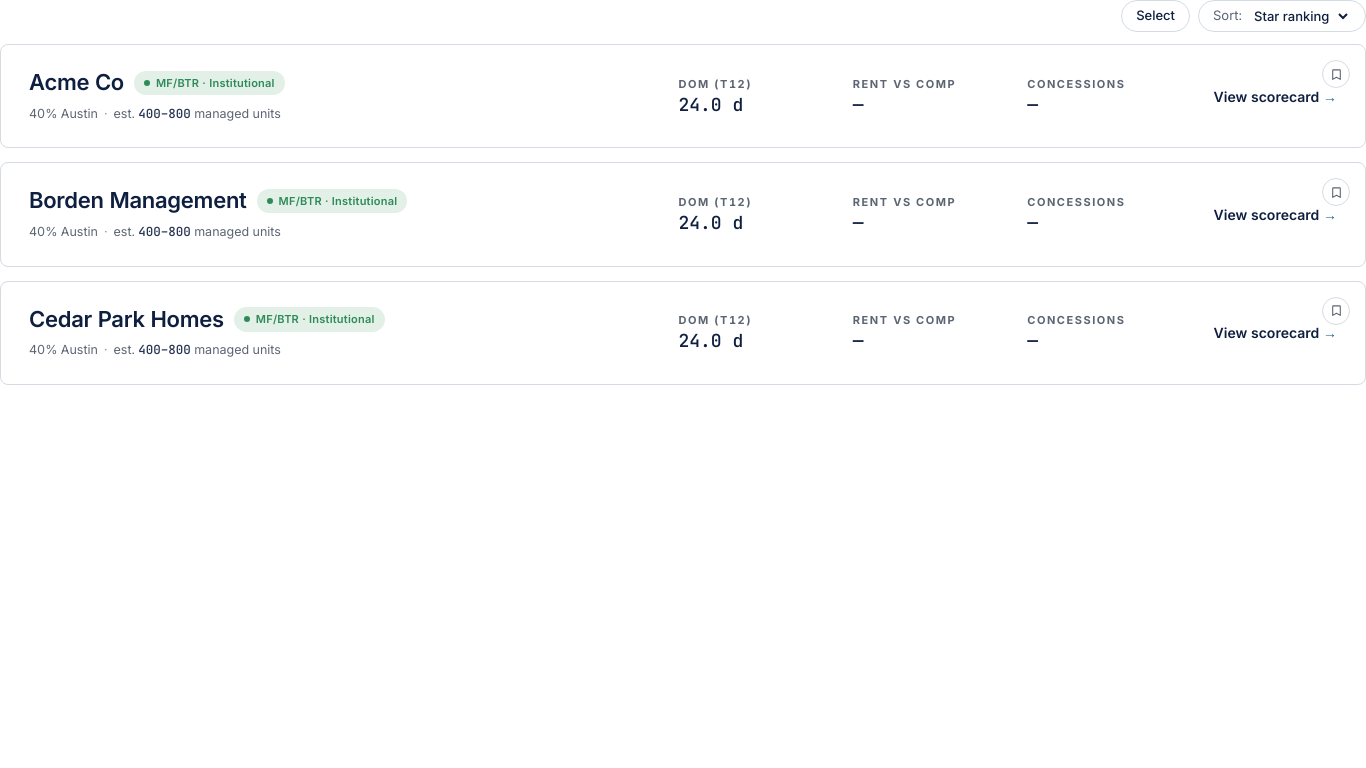
Scenario: RankedOperatorList — multi-select roster builder › a partial pin failure surfaces as an alert (not the success box) and keeps the selection for retry
The width and height of the screenshot is (1366, 768).
Step 1. Click the button "Select" → (1156, 16), box 1121,0 -> 1190,32
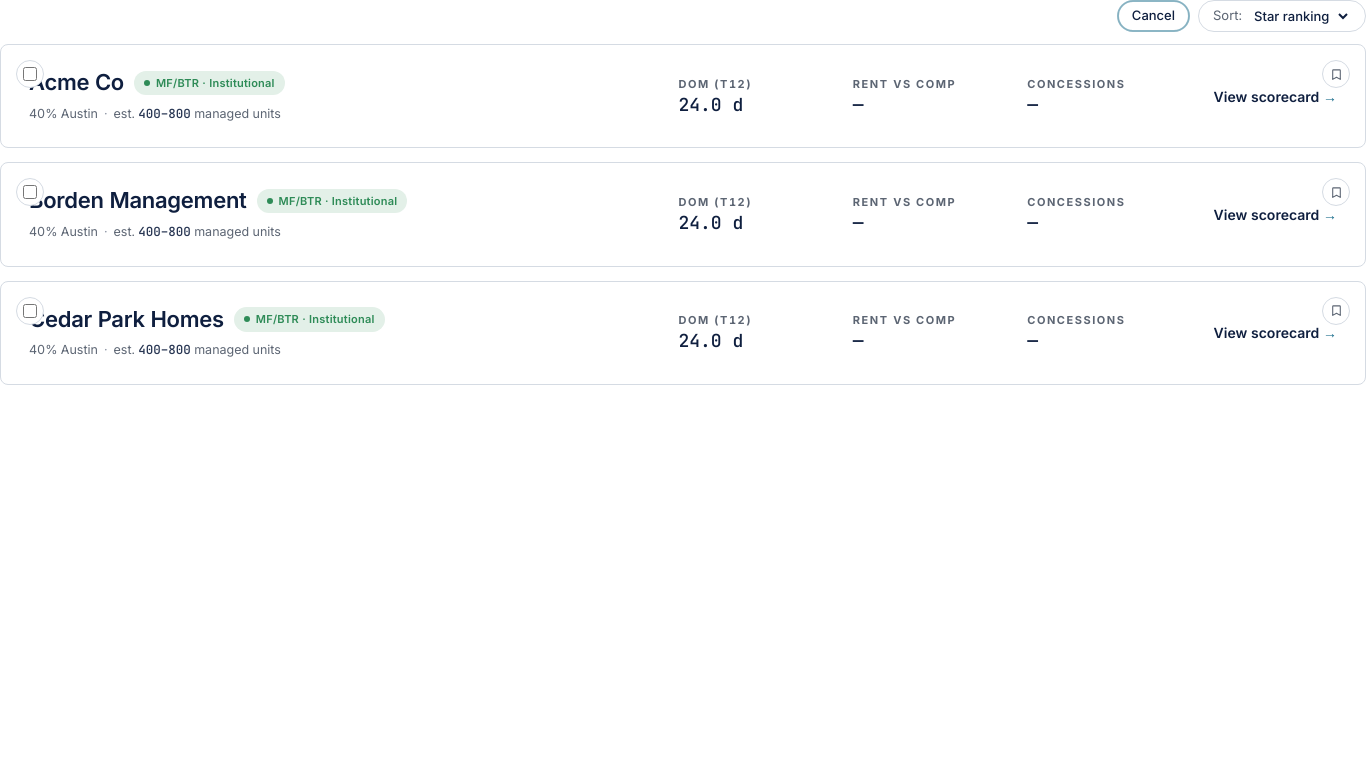
Step 2. Click the checkbox named "Acme Co" → (30, 74), box 23,67 -> 37,81
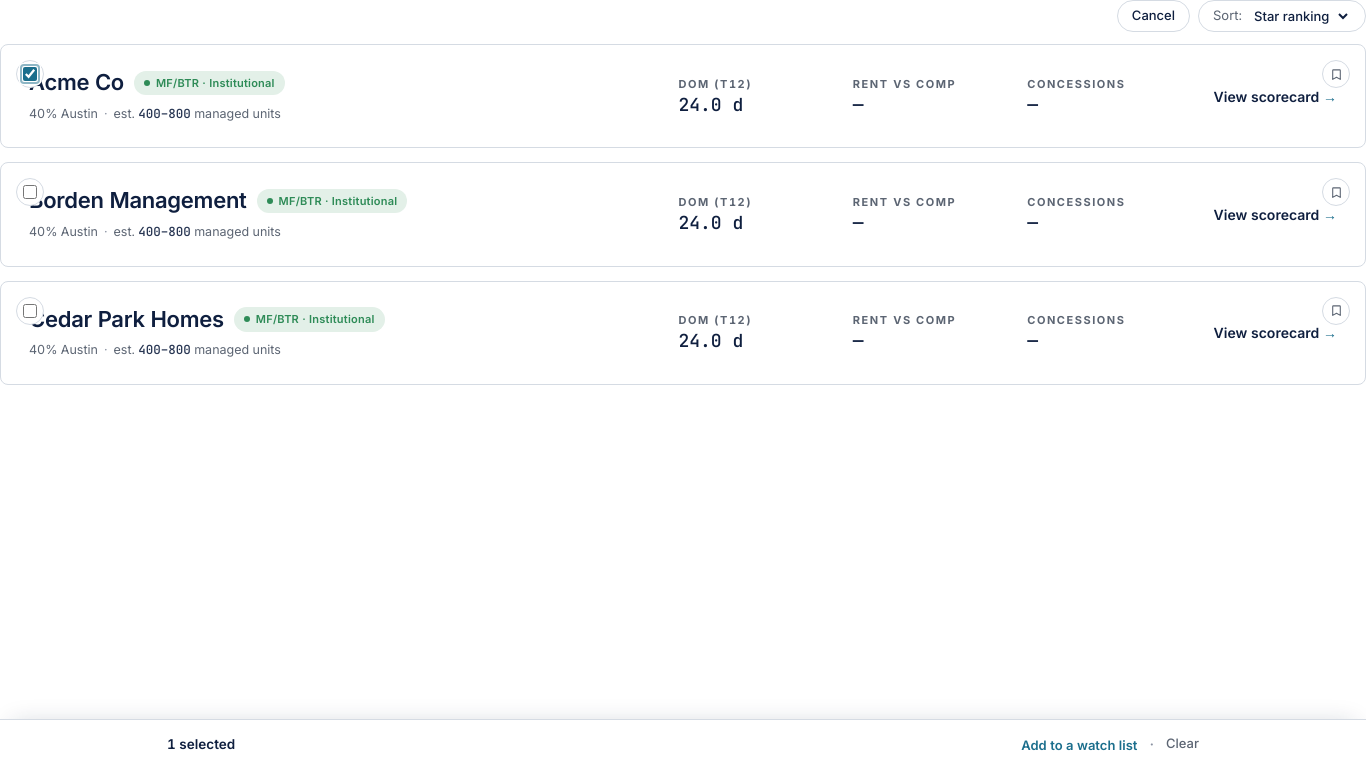
Step 3. Click the checkbox named "Borden Management" → (30, 192), box 23,185 -> 37,199
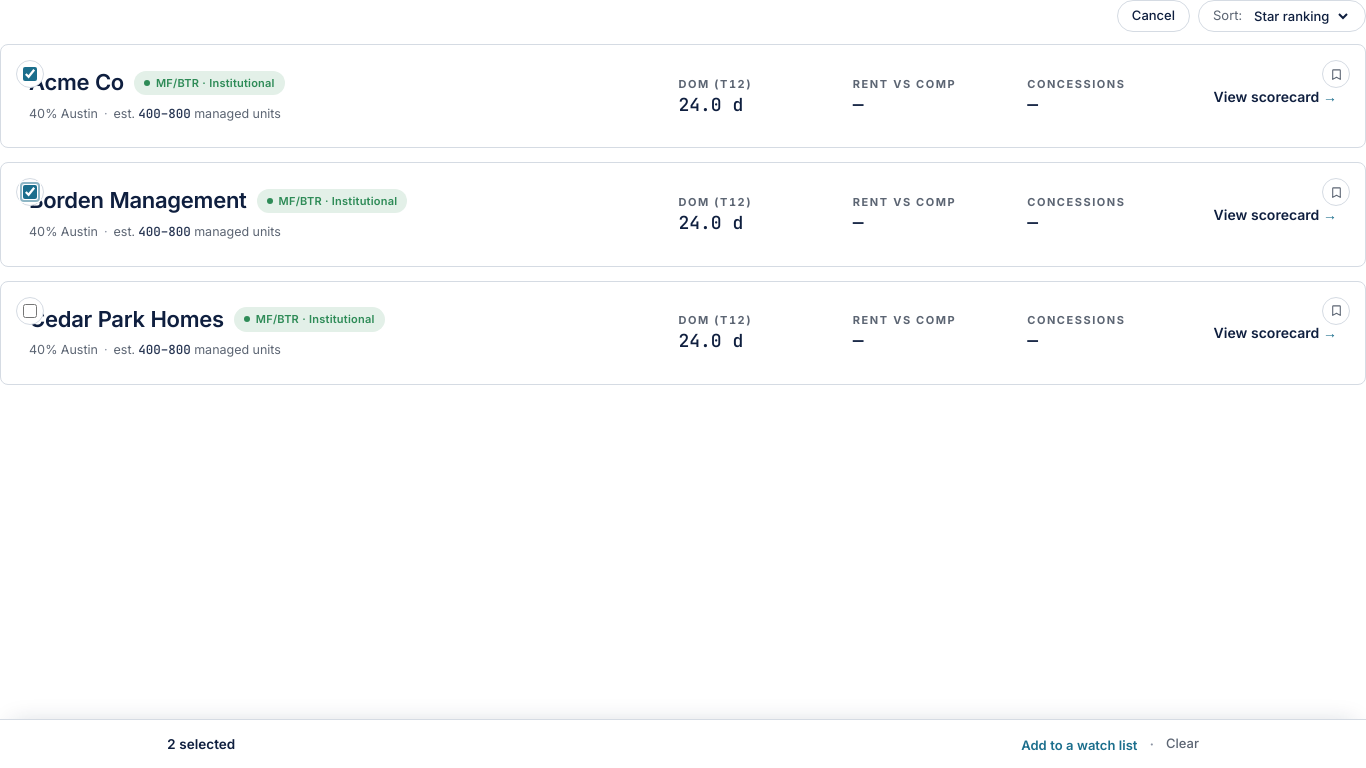
Step 4. Click the button "Add to a watch list" → (1079, 746), box 1021,736 -> 1137,756
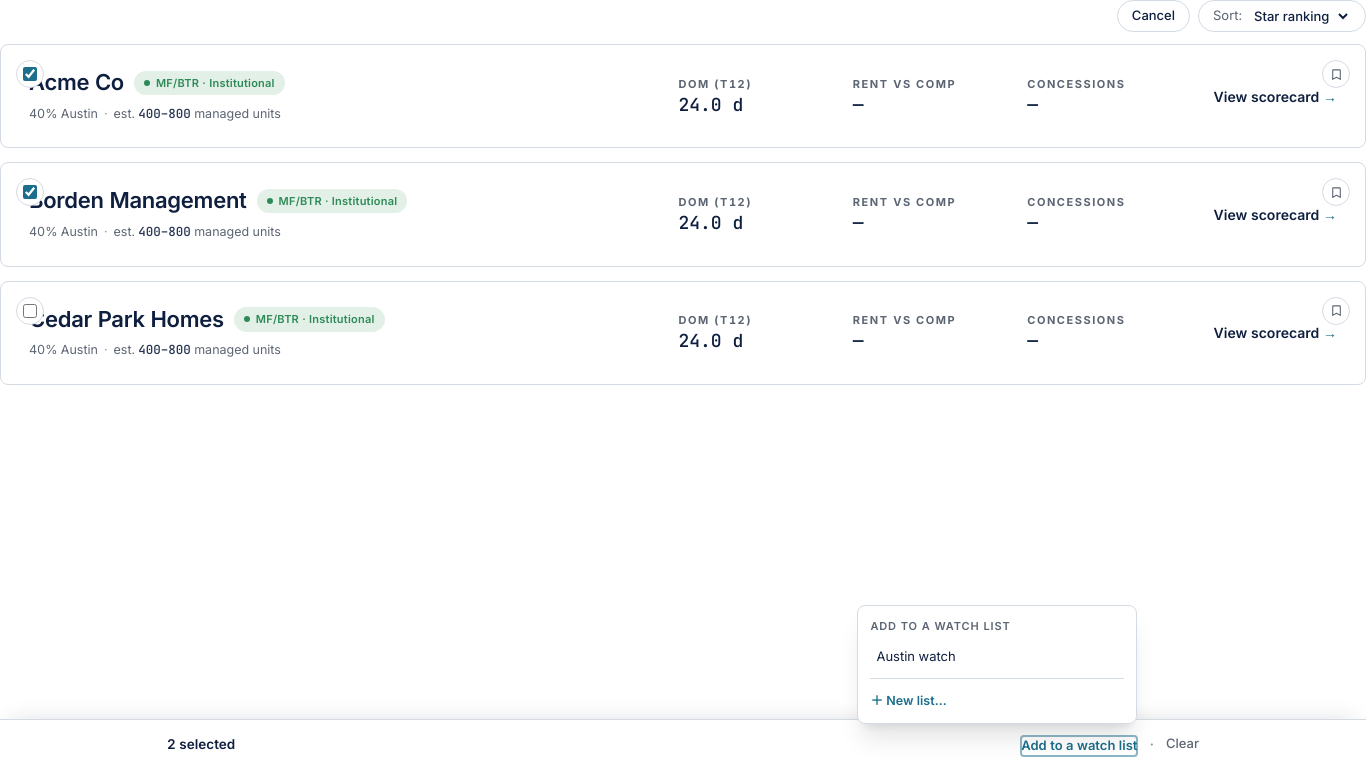
Result: the button "Austin watch" is shown
Step 5. Click the button "Austin watch" → (997, 656), box 870,642 -> 1124,670
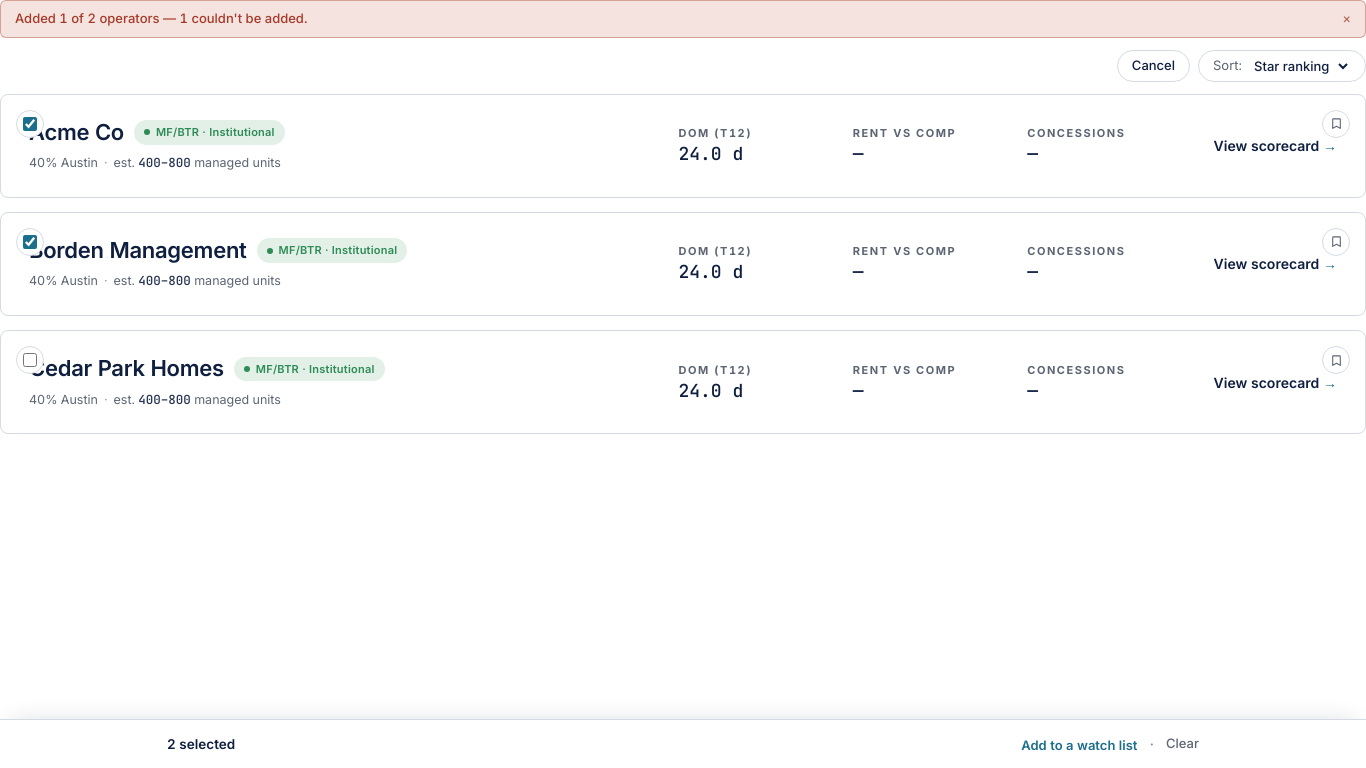
Result: the text "2 selected" is shown at 167,734 -> 235,754
Result: the number of checkboxes is 3 at 23,116 -> 37,130; 23,235 -> 37,249; 23,353 -> 37,367
Result: the message shows "Added 1 of 2 operators — 1 couldn't be added." at 15,10 -> 307,26
